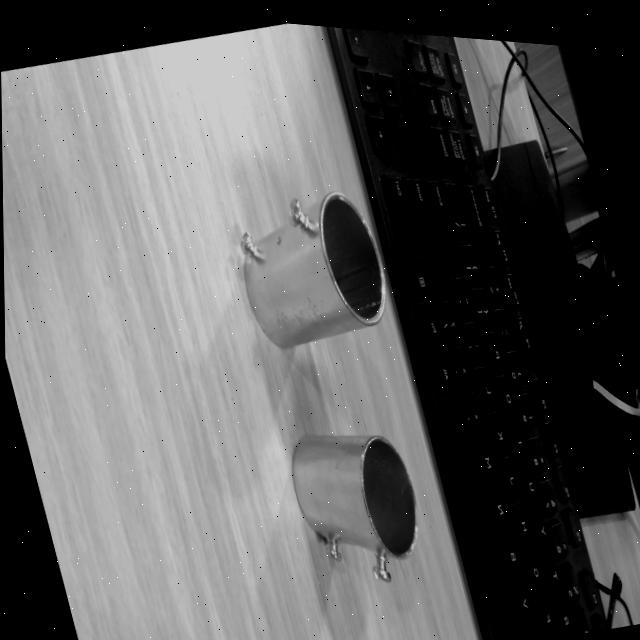Co_Lon: (227, 182, 396, 353)
Co_Nho: (283, 431, 422, 587)
